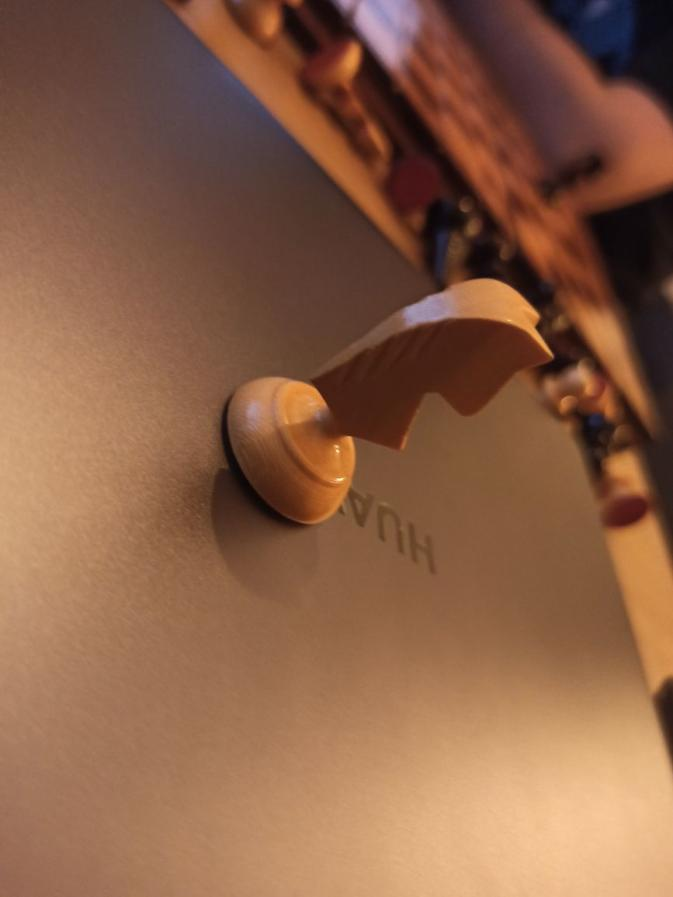wknight: (224, 277, 557, 530)
